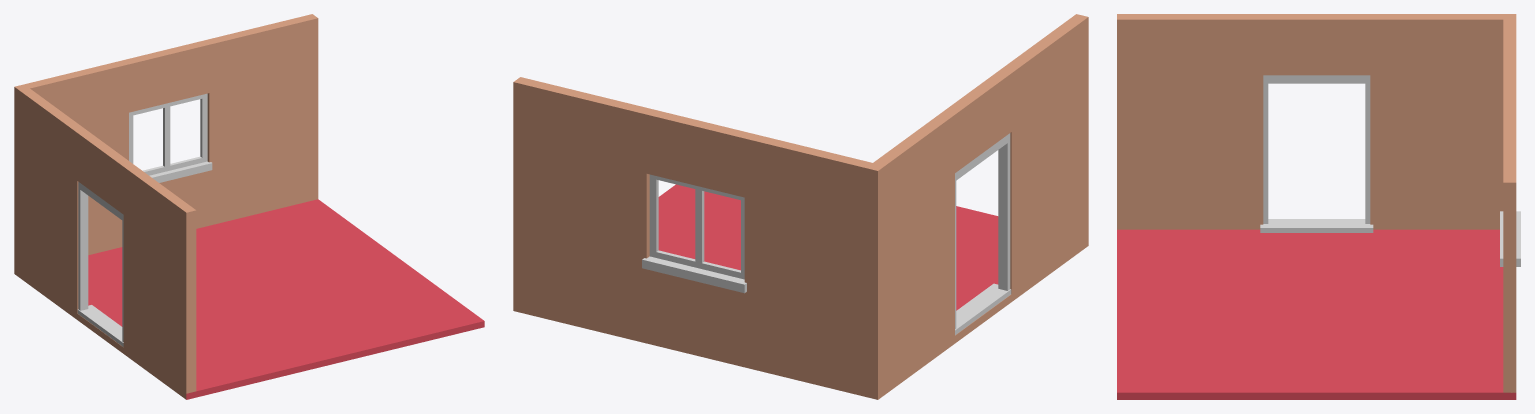
File: window_door_reversed.glb
3 renders of one model, left to right at view 1: azimuth 30°, elevation 25°; view 2: azimuth 150°, elevation 25°; view 3: azimuth 270°, elevation 25°, orthographic. The views are drawn at different scales.
Visible parts, largest first — view 1: Cube; view 2: Cube; view 3: Cube.
Part boxes in pixels (bbox=[...]): Cube: bbox=[14, 14, 484, 399]; Cube: bbox=[513, 14, 1088, 399]; Cube: bbox=[1117, 14, 1520, 399].
Size of the model in its own units: 9 by 5.4 by 9.1.
